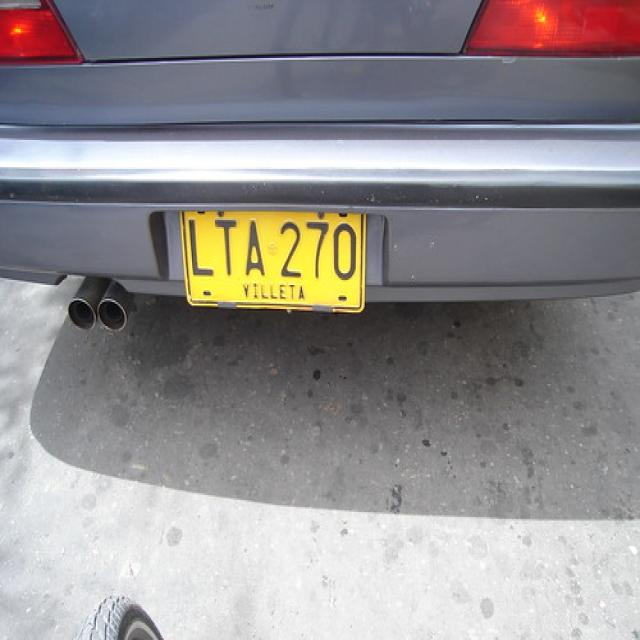placas: (180, 211, 363, 280)
